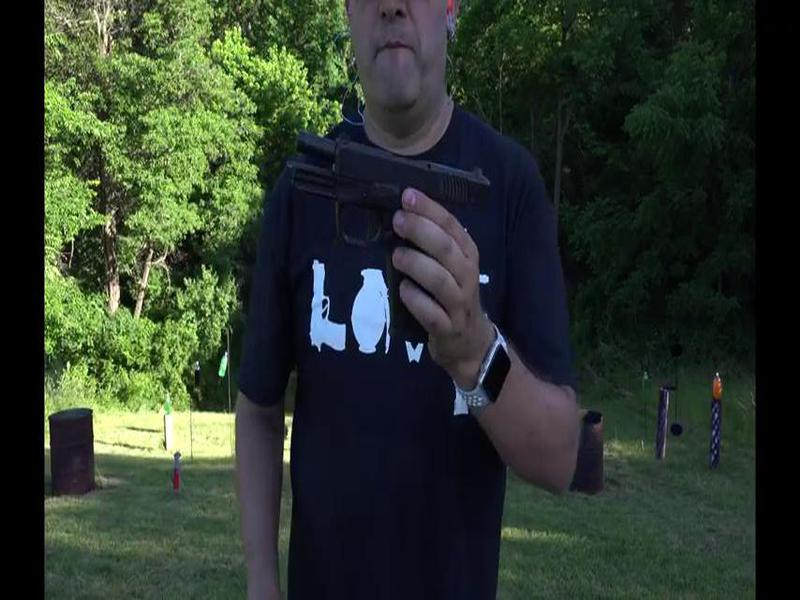Pistola: (285, 124, 497, 343)
